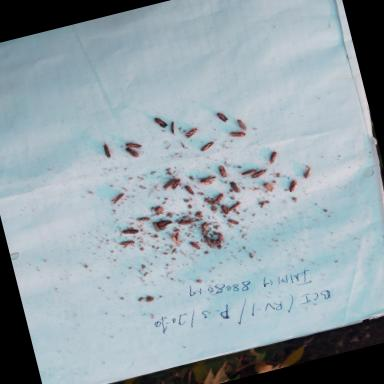pbw: (99, 138, 118, 162), (260, 176, 282, 195), (106, 190, 128, 208), (176, 214, 199, 230), (123, 138, 146, 154), (246, 166, 270, 181), (118, 224, 142, 239), (166, 229, 186, 247), (238, 164, 262, 179), (152, 216, 177, 230), (225, 198, 248, 213), (180, 124, 201, 140), (197, 138, 218, 154), (264, 148, 282, 166), (209, 190, 228, 207), (166, 175, 185, 192), (196, 218, 213, 237), (152, 113, 170, 130), (215, 162, 231, 181), (165, 118, 181, 137), (159, 177, 179, 192), (285, 177, 302, 194), (234, 116, 250, 134), (227, 178, 243, 196), (196, 173, 219, 185), (214, 108, 230, 125), (202, 232, 217, 250), (228, 128, 250, 140), (299, 164, 314, 181), (134, 212, 154, 224), (214, 229, 228, 246), (182, 182, 196, 198), (188, 238, 204, 252), (150, 218, 164, 234), (197, 177, 214, 189), (225, 216, 242, 228), (118, 238, 138, 248), (218, 203, 231, 215), (211, 238, 223, 251)
